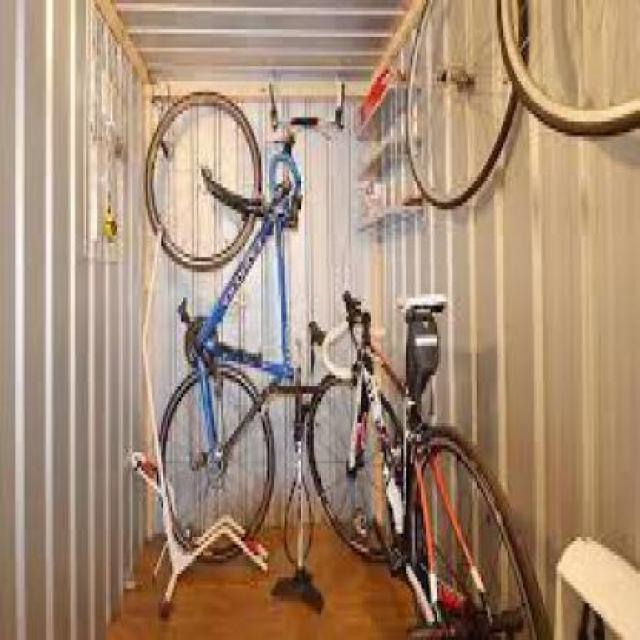bicycle: (140, 54, 311, 597), (324, 256, 546, 640)
